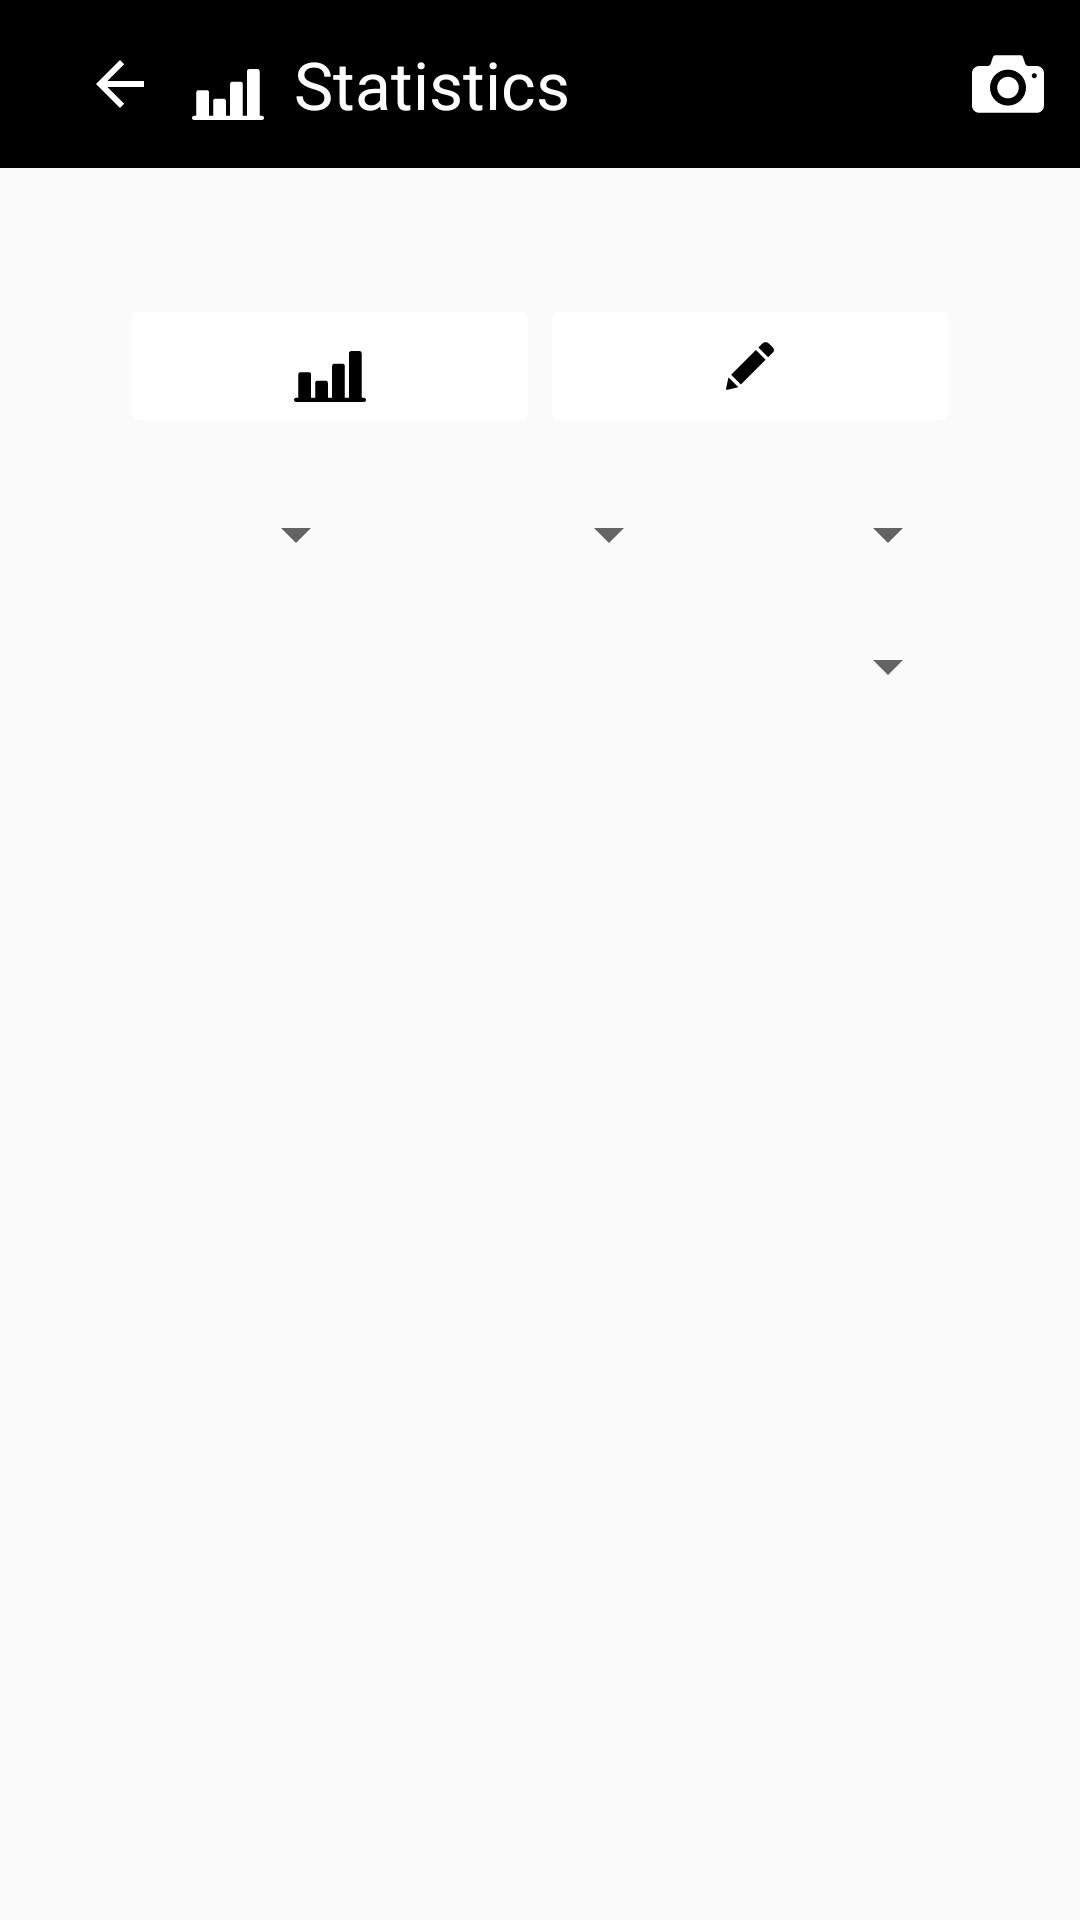

Locate icon controls on the screen. Image size 1080 x 1920, boxes as box(x1, y1, x2, y2).
Back: box(96, 60, 144, 108)
Graph: box(294, 351, 366, 402)
Take screenshot: box(972, 55, 1044, 113)
